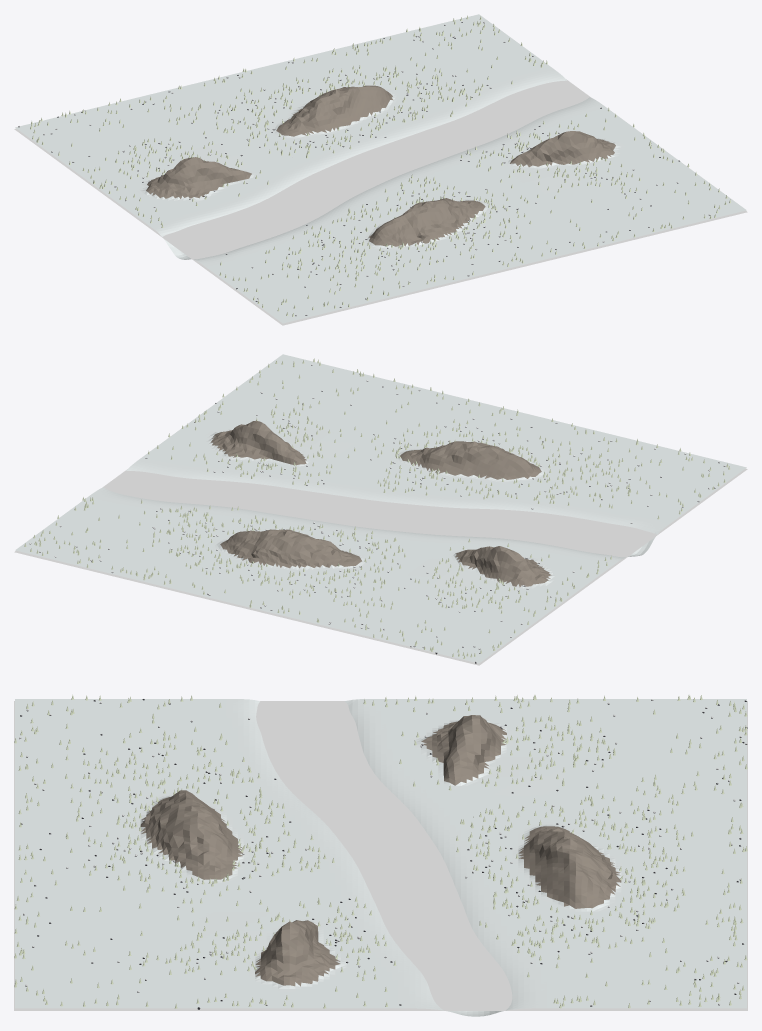
File: Map-Snowy1500_extralowpoly_withrocks.fbx
The picture shows the model from 3 angles, top to bottom: view 1: azimuth 30°, elevation 25°; view 2: azimuth 150°, elevation 25°; view 3: azimuth 270°, elevation 25°; orthographic projection. The views are drawn at different scales.
Parts seen in each view (by area): view 1: Plane.001, Plane, Plane.002; view 2: Plane.001, Plane, Plane.002; view 3: Plane.001, Plane, Plane.002.
Boxes of the visible parts, x1=… form: Plane.001: x1=15, y1=14, x2=746, y2=323; Plane: x1=14, y1=79, x2=747, y2=325; Plane.002: x1=146, y1=85, x2=615, y2=246; Plane.001: x1=15, y1=354, x2=746, y2=663; Plane: x1=14, y1=468, x2=747, y2=665; Plane.002: x1=210, y1=420, x2=551, y2=587; Plane.001: x1=15, y1=699, x2=746, y2=1016; Plane: x1=14, y1=701, x2=747, y2=1010; Plane.002: x1=140, y1=715, x2=621, y2=986.
Bounding box in the file's own units: 80245 × 13163 × 80000.
